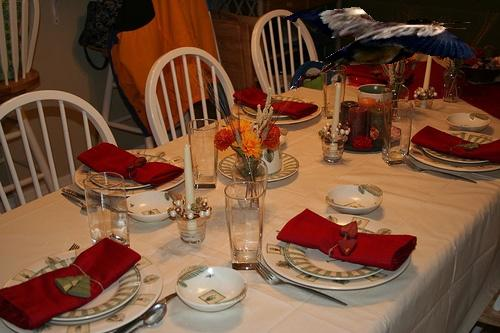tampered: (284, 8, 475, 91)
